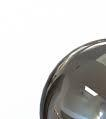ironball: (32, 30, 105, 118)
